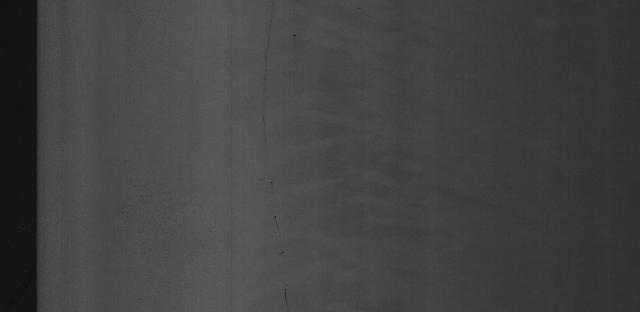inclusion: (258, 13, 297, 306)
